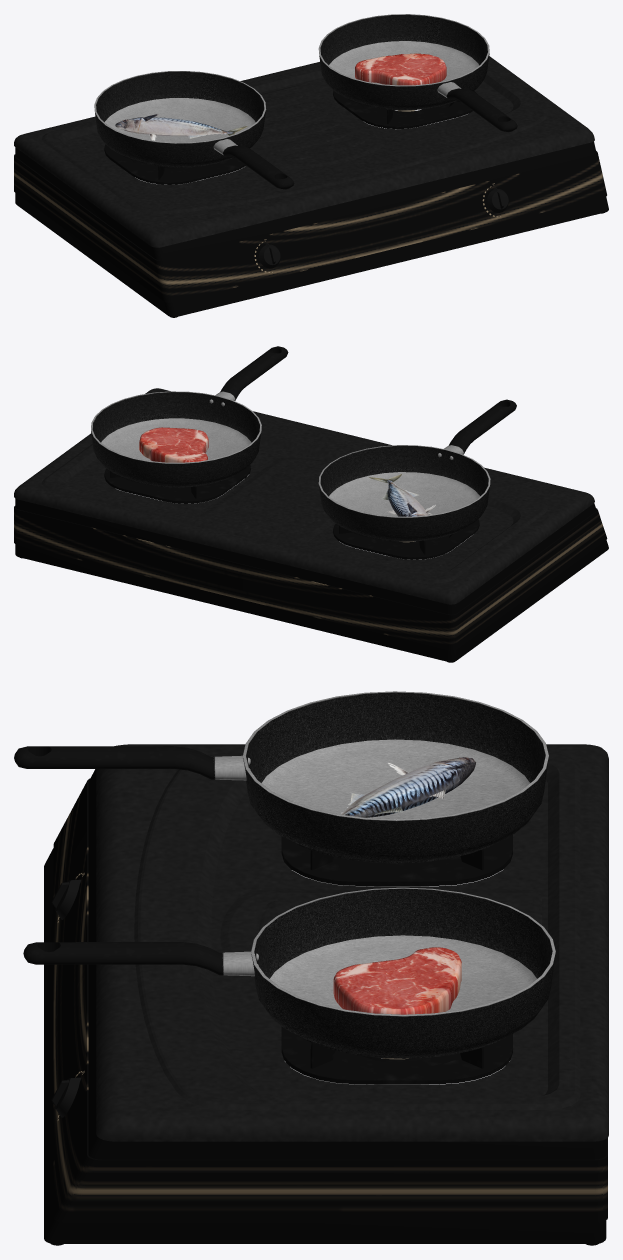
The picture shows the model from 3 angles, top to bottom: view 1: azimuth 30°, elevation 25°; view 2: azimuth 150°, elevation 25°; view 3: azimuth 270°, elevation 25°; orthographic projection. The views are drawn at different scales.
Visible parts, largest first — view 1: Stove__0, Fry_pan1, Fry_pan, Steak.001, Mackerel.001; view 2: Stove__0, Fry_pan1, Fry_pan, Steak.001, Mackerel.001; view 3: Stove__0, Fry_pan1, Fry_pan, Steak.001, Mackerel.001.
Boxes of the visible parts, box(x1,y1,x2,y2) form: Stove__0: box(14, 56, 608, 317); Fry_pan1: box(94, 71, 294, 189); Fry_pan: box(318, 14, 517, 132); Steak.001: box(355, 53, 446, 85); Mackerel.001: box(115, 114, 247, 140); Stove__0: box(14, 388, 608, 662); Fry_pan1: box(318, 399, 516, 541); Fry_pan: box(91, 346, 288, 487); Steak.001: box(139, 427, 208, 462); Mackerel.001: box(368, 474, 435, 516); Stove__0: box(44, 744, 608, 1245); Fry_pan1: box(14, 691, 548, 863); Fry_pan: box(23, 887, 555, 1058); Steak.001: box(333, 947, 461, 1014); Mackerel.001: box(341, 757, 475, 817).
Size of what is drawn, in the model's own units: 0.6536 by 0.1671 by 0.4274.
7 materials, 7 textured.
